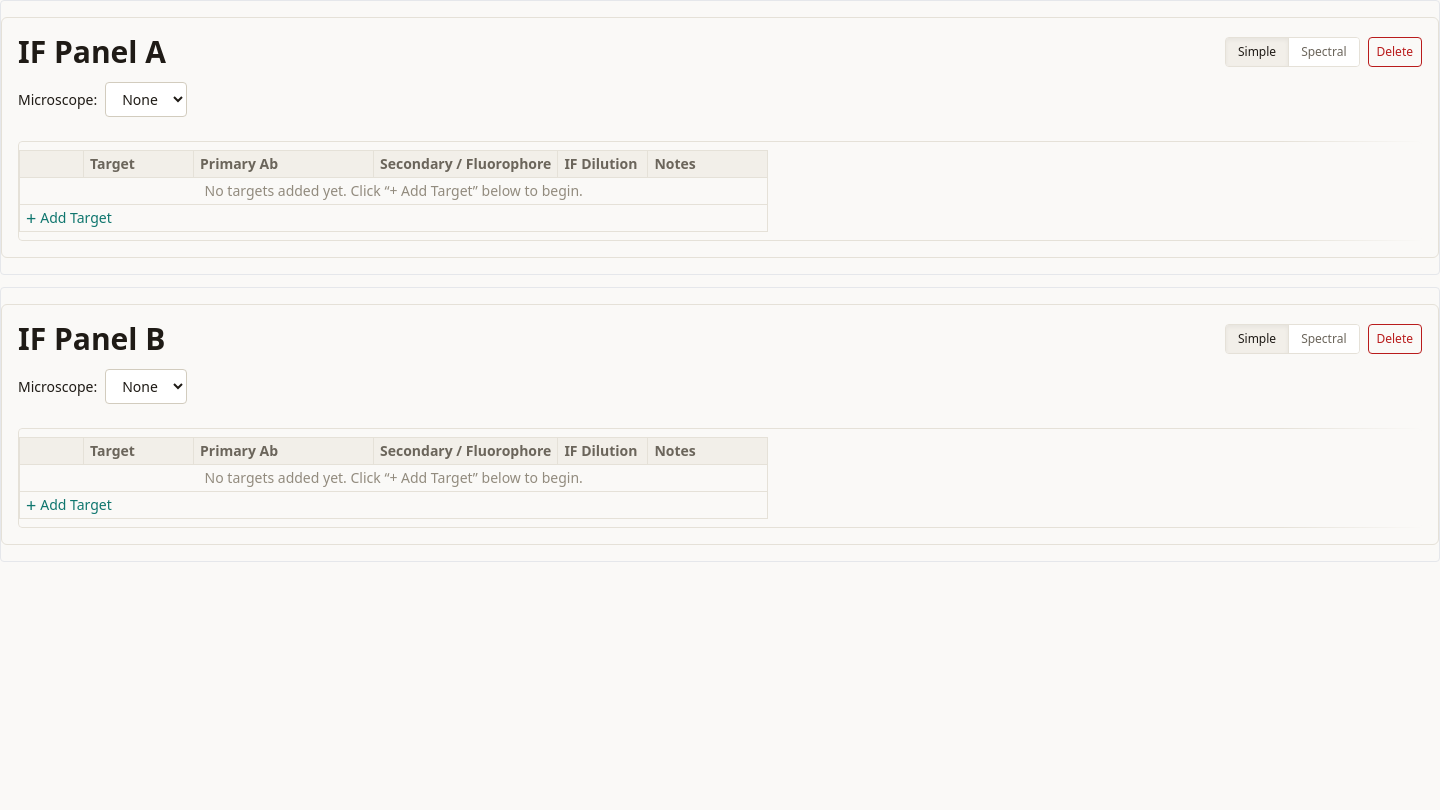
Test: IfPanelView › Test 4 — two panels, data isolation: editing one does not affect the other
This screenshot has width=1440, height=810.
Expected: the heading "IF Panel B" is shown, [18,321,166,357]
Click the heading "IF Panel A" at {"x": 92, "y": 52}, box [18,34,166,70]
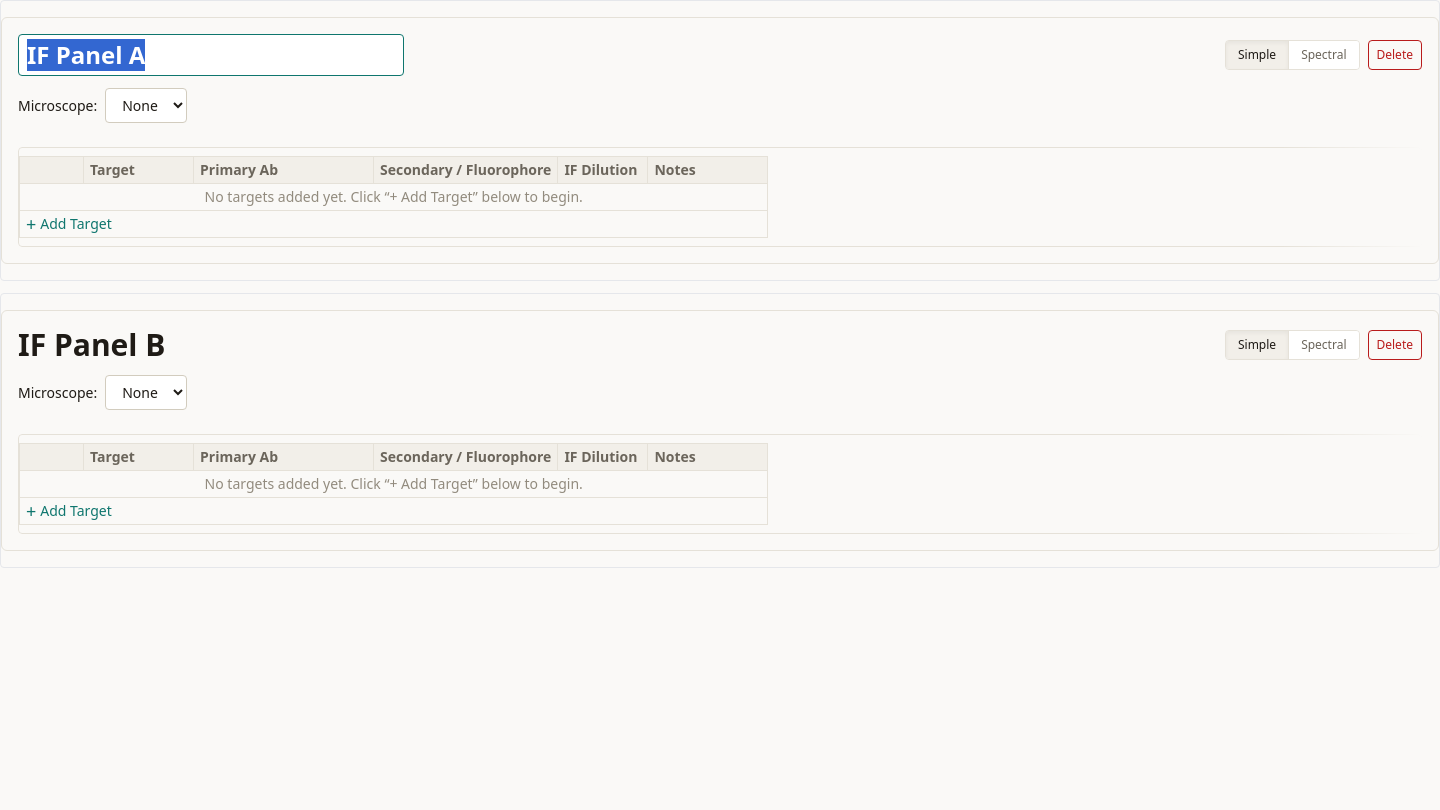
Replace the text in the field showing "IF Panel A" with "IF Panel A2" at {"x": 211, "y": 55}, box [18,34,404,76]
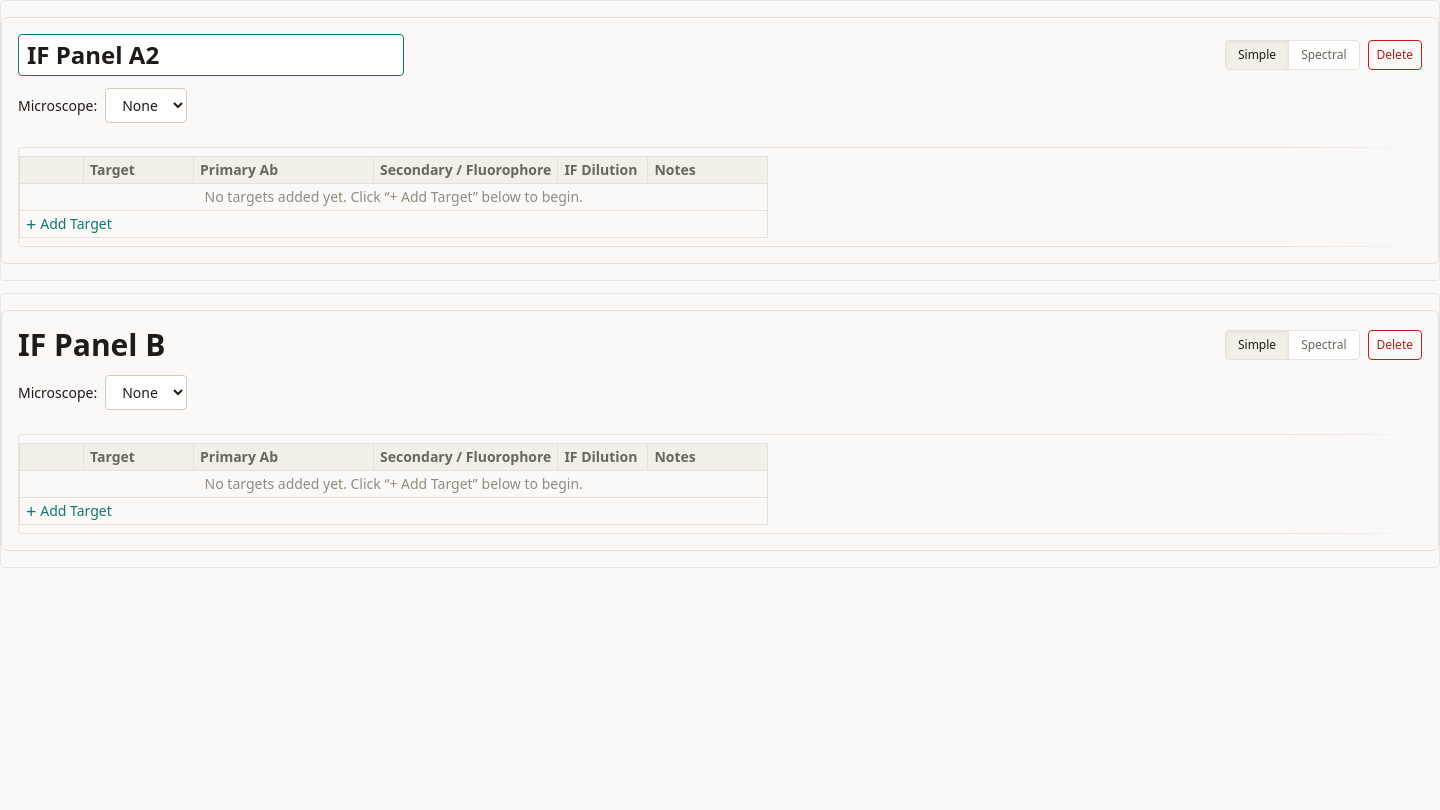
Leave the field showing "IF Panel A", box [18,34,404,76]
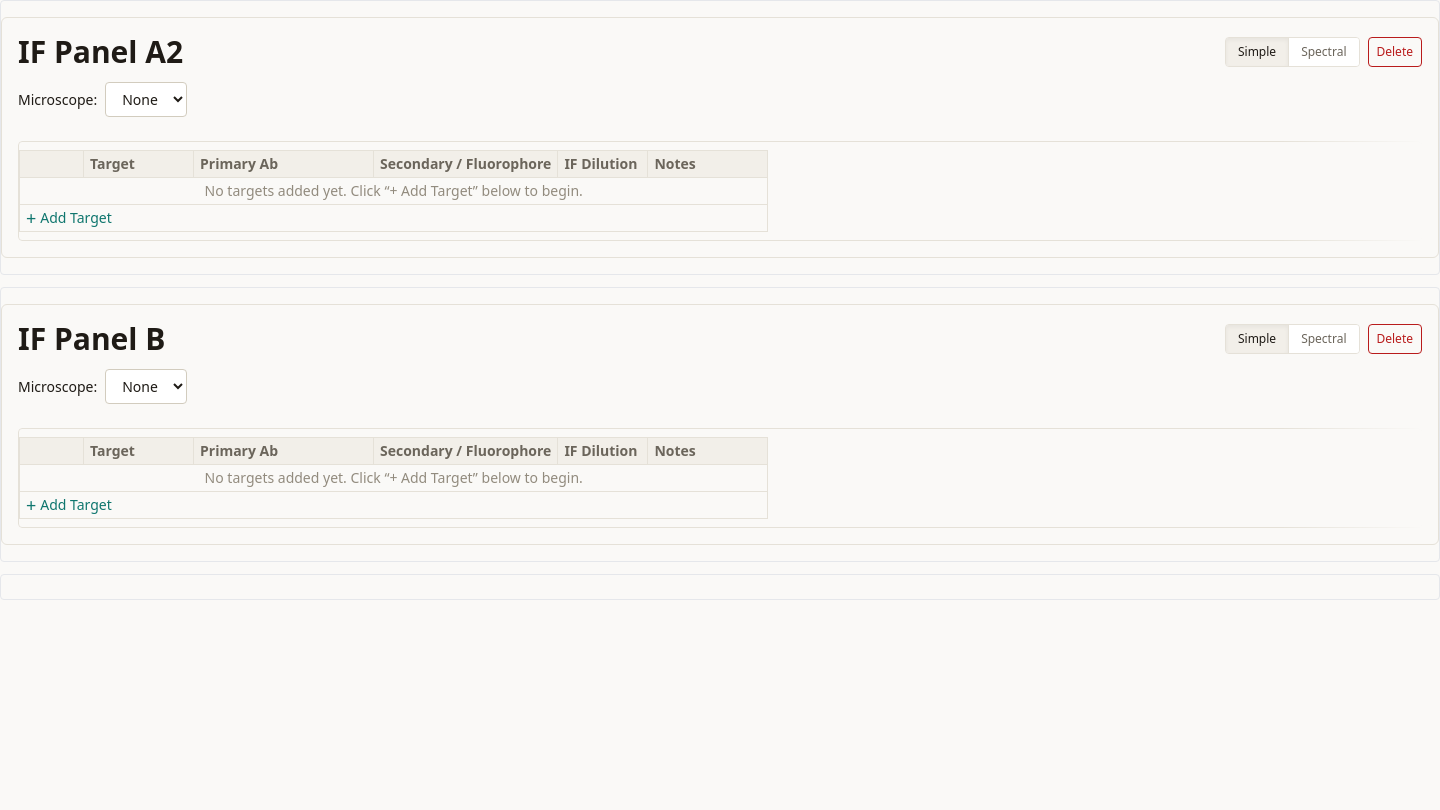
Expected: the heading "IF Panel B" is shown, [18,321,166,357]
Result: the heading "IF Panel A2" is shown at [18,34,183,70]
